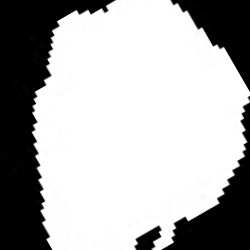spot: (32, 2, 249, 248)
